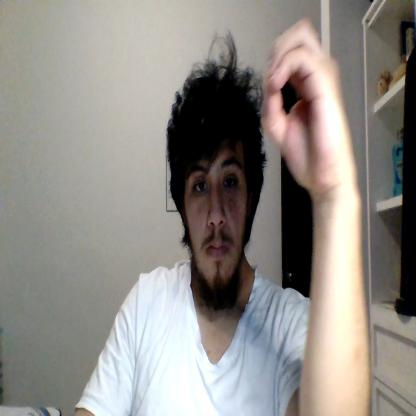O: (263, 18, 351, 192)
